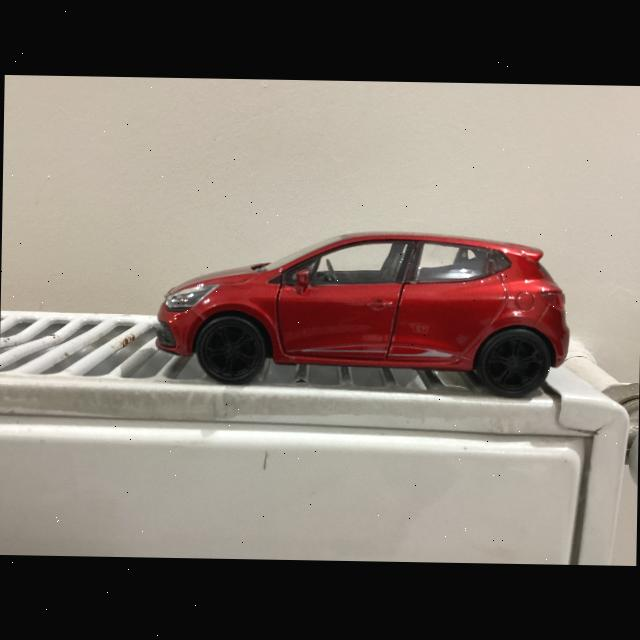Dogru_Jant: (204, 323, 259, 378), (488, 336, 543, 388)
